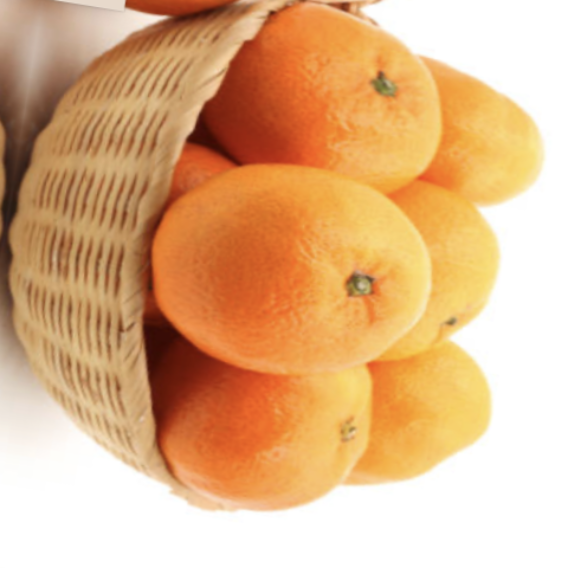orange: (135, 138, 457, 411), (133, 297, 404, 568), (165, 0, 479, 215)
